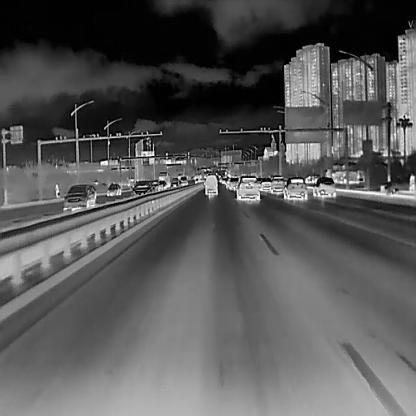car: (61, 183, 95, 212), (283, 175, 307, 199), (236, 176, 259, 199), (313, 176, 336, 197), (131, 181, 155, 198), (205, 174, 218, 193), (106, 181, 121, 196), (271, 176, 284, 193), (158, 170, 170, 187), (408, 170, 415, 192), (259, 177, 270, 189), (229, 177, 239, 190), (150, 179, 159, 191), (179, 176, 187, 186), (54, 182, 59, 197), (157, 181, 166, 189), (172, 176, 178, 186), (221, 176, 227, 184), (226, 178, 230, 187)
